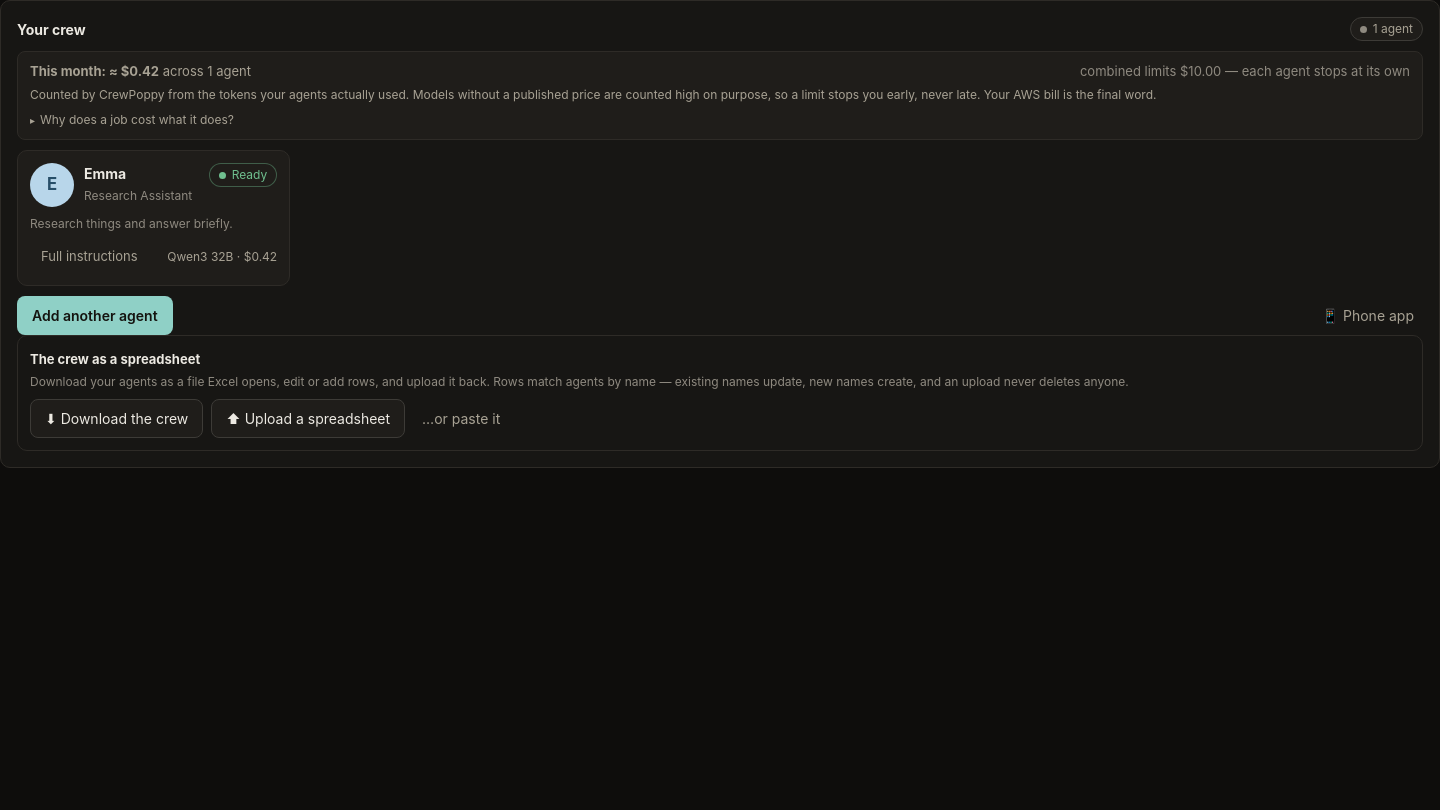
Test case: deleting an agent › never deletes on a single click — it opens a dialog first
The image size is (1440, 810).
Click the button with aria-label "open emma": [154, 218] box [17, 150, 290, 286]
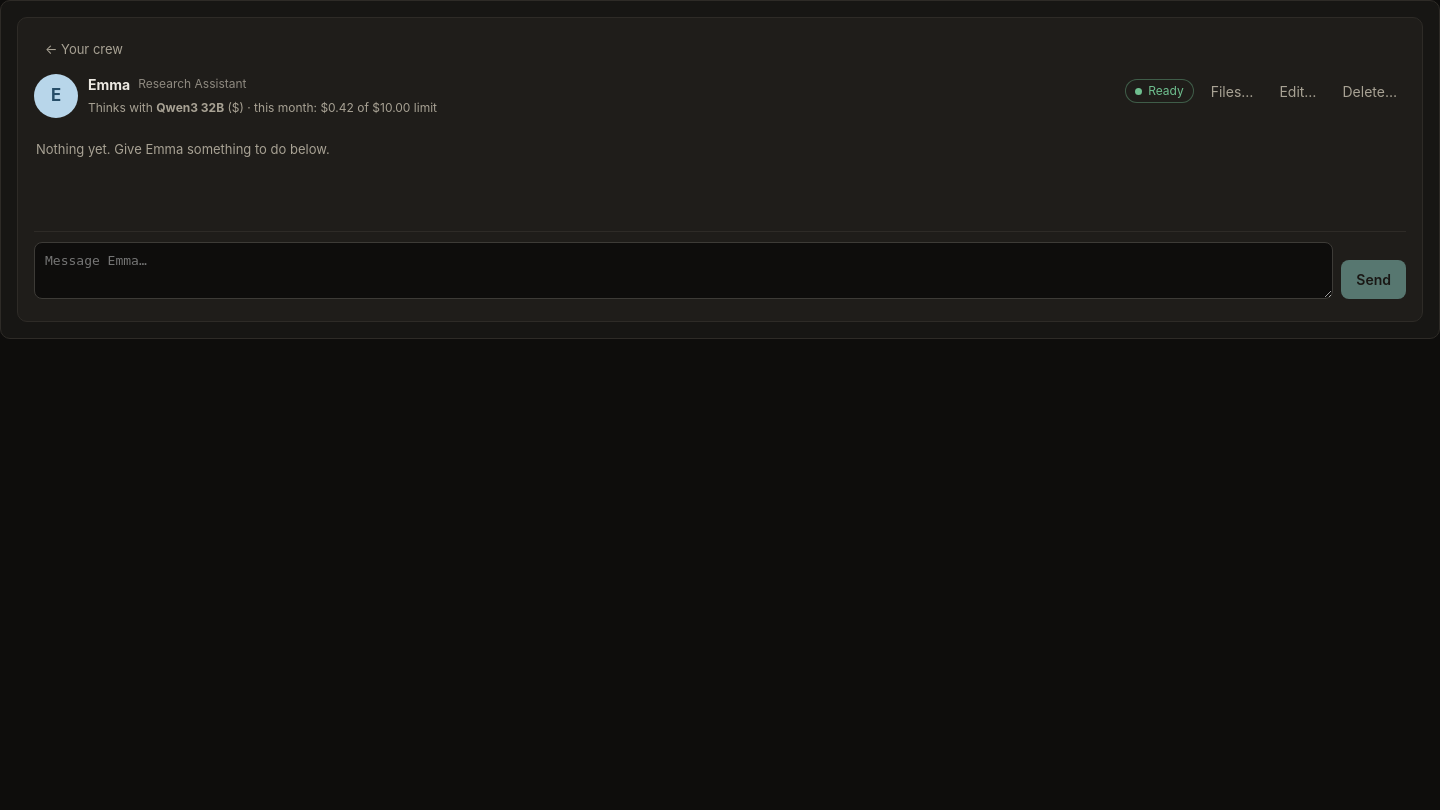
Click the button with aria-label "delete emma": [1370, 91] box [1334, 74, 1406, 108]
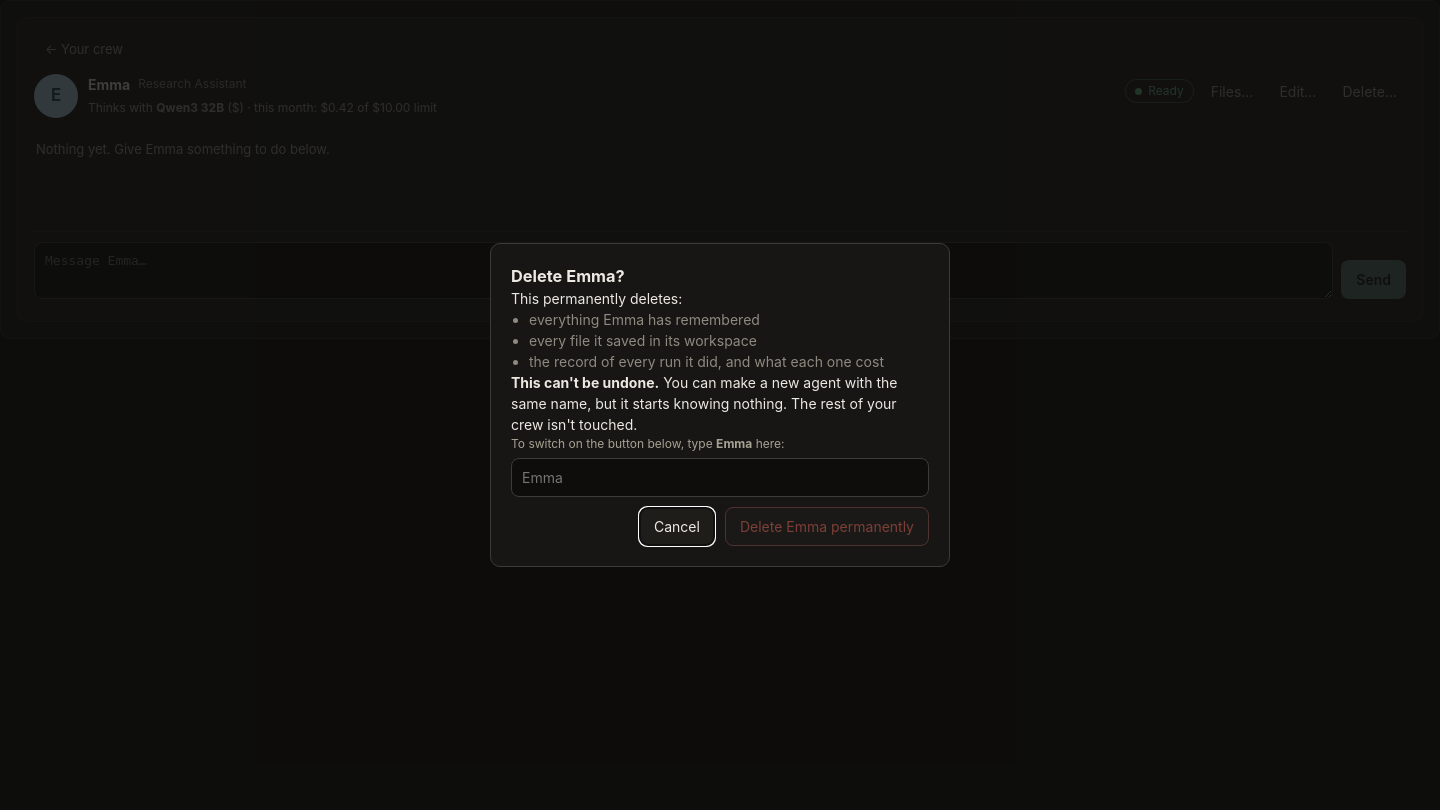
expect the dialog is shown: met
